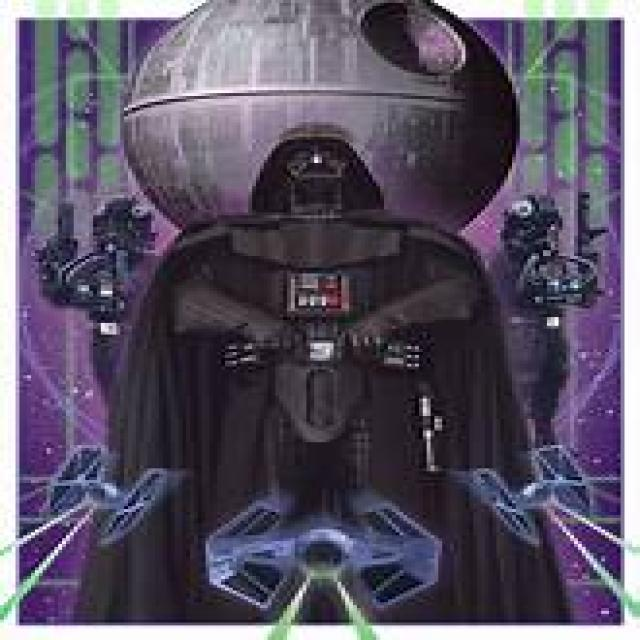deathStar: (112, 0, 519, 244)
